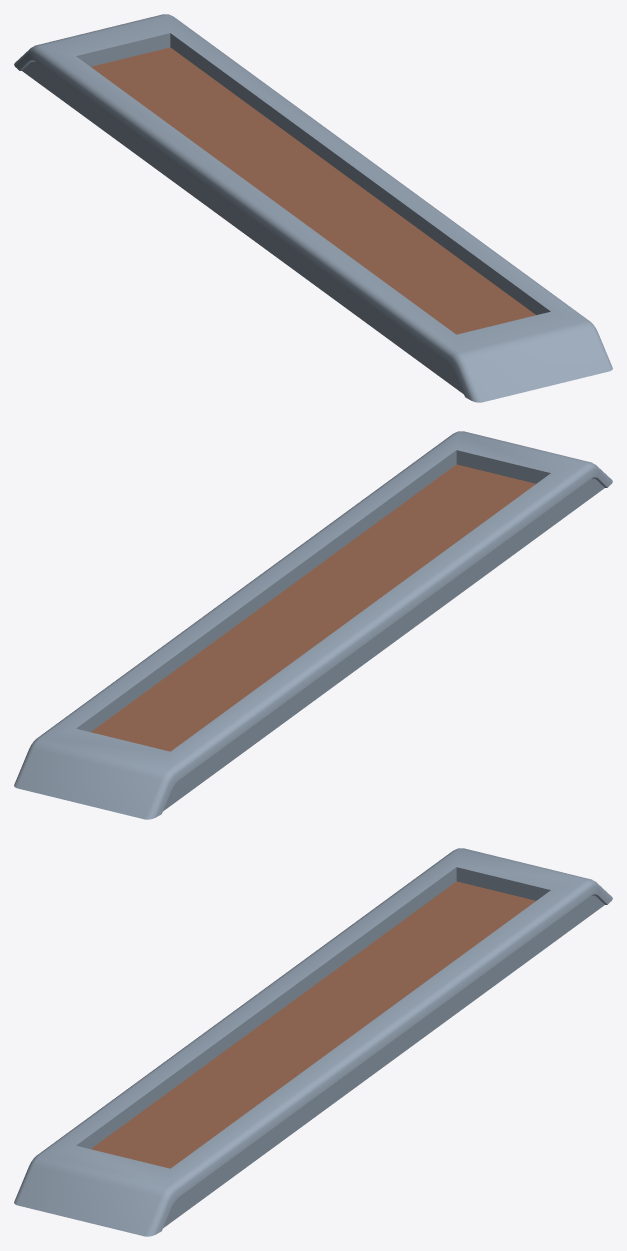
Rendered from PotMiddleLarge.fbx.
3 renders of one model, top to bottom at view 1: azimuth 30°, elevation 25°; view 2: azimuth 150°, elevation 25°; view 3: azimuth 330°, elevation 25°, orthographic.
Parts seen in each view (by area): view 1: PotMiddleLarge_LOD0; view 2: PotMiddleLarge_LOD0; view 3: PotMiddleLarge_LOD0.
Part boxes in pixels (left/top/right/bottom): PotMiddleLarge_LOD0: left=14, top=14, right=612, bottom=402; PotMiddleLarge_LOD0: left=14, top=431, right=612, bottom=819; PotMiddleLarge_LOD0: left=14, top=848, right=612, bottom=1236.
Size of what is drawn, in the model's own units: 169 by 36.98 by 954.
